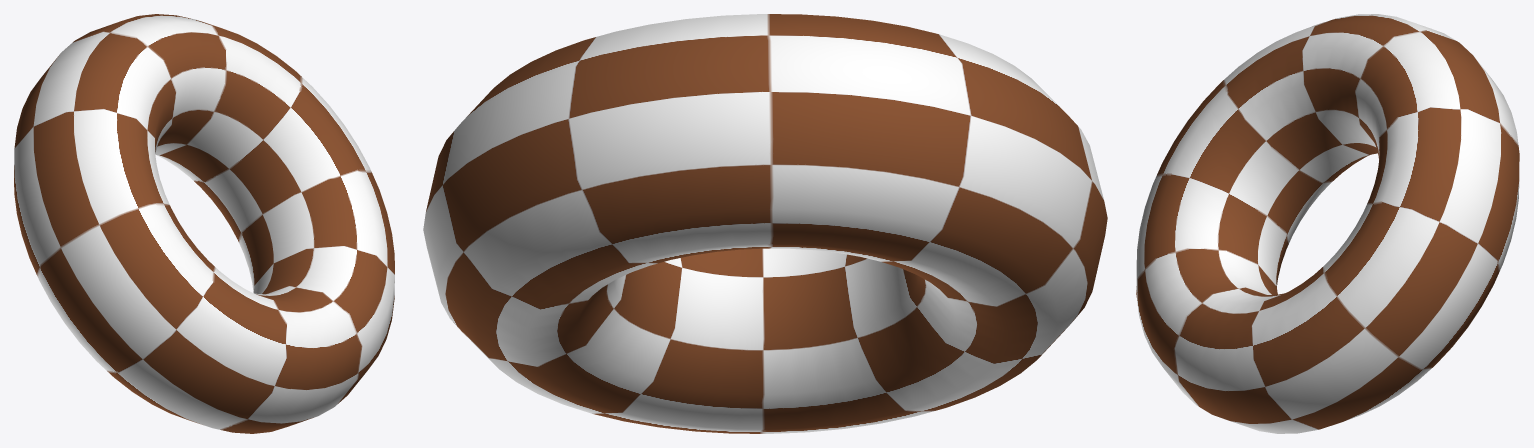
The model's file is Hairy_donut.glb.
3 renders of one model, left to right at view 1: azimuth 30°, elevation 25°; view 2: azimuth 150°, elevation 25°; view 3: azimuth 270°, elevation 25°, orthographic. The views are drawn at different scales.
Visible parts, largest first — view 1: Hairy_donut.001; view 2: Hairy_donut.001; view 3: Hairy_donut.001.
Boxes of the visible parts, x1,y1,x2,y2 form: Hairy_donut.001: (14,14,394,433); Hairy_donut.001: (423,14,1107,433); Hairy_donut.001: (1136,14,1519,433).
Bounding box in the file's own units: 2.56 × 2.25 × 2.29.
Materials: 1 (1 with a texture image).
